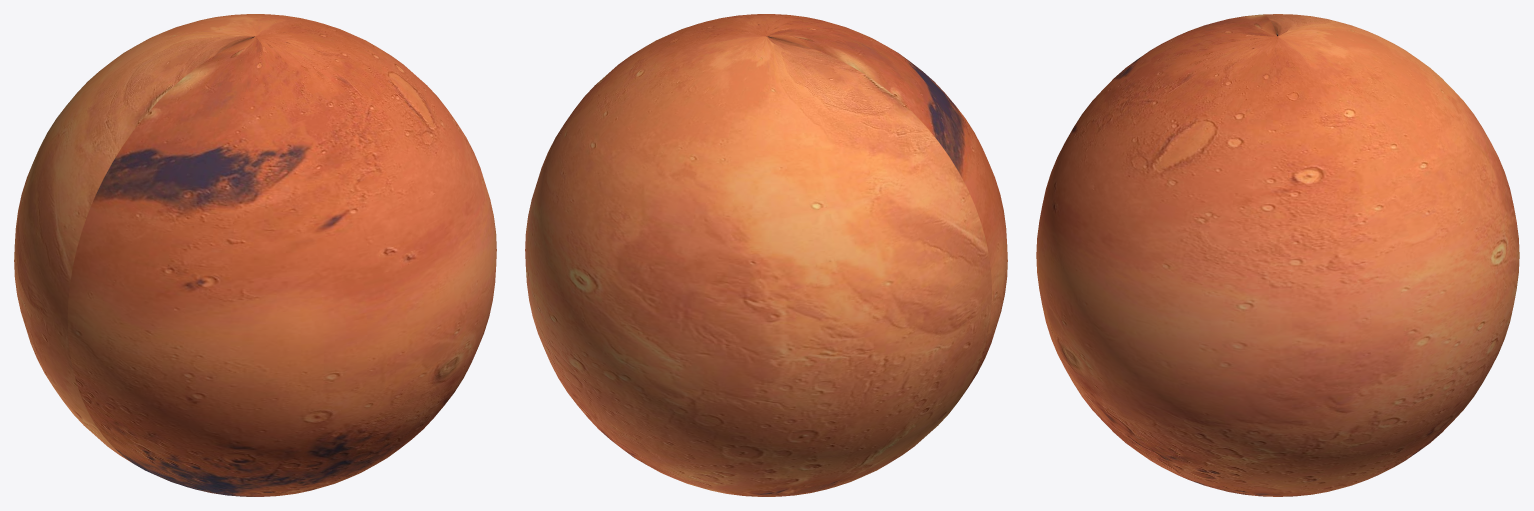
File: mars.glb
3 renders of one model, left to right at view 1: azimuth 30°, elevation 25°; view 2: azimuth 150°, elevation 25°; view 3: azimuth 270°, elevation 25°, orthographic.
Parts seen in each view (by area): view 1: sun_GEO 2; view 2: sun_GEO 2; view 3: sun_GEO 2.
Boxes of the visible parts, x1,y1,x2,y2 form: sun_GEO 2: (14,14,496,496); sun_GEO 2: (525,14,1007,496); sun_GEO 2: (1036,14,1519,496).
Bounding box in the file's own units: 0.297 × 0.297 × 0.297.
1 material, 1 textured.
